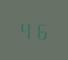four: (19, 19, 32, 39)
six: (33, 19, 46, 40)
